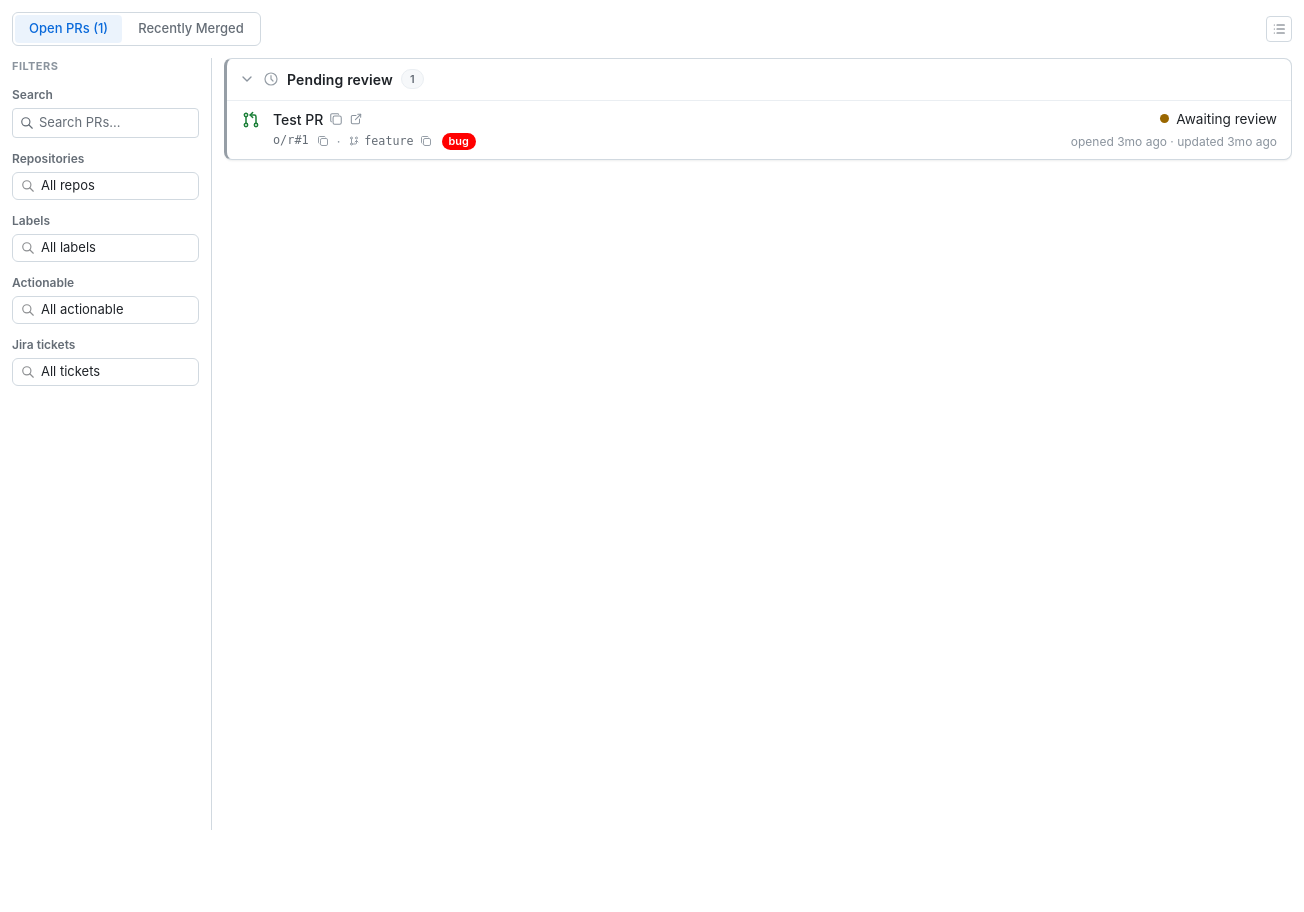
Scenario: PRsView sidebar filters › Recently Merged has no filter controls, so Open filters never carry over
Expected: the text "Filters" is shown, [12,58,58,74]
Expected: the text "All repos" is shown, [41,177,95,193]
Step 1. Click the button "Recently Merged" → coordinates (191, 29), box [124,15,258,42]
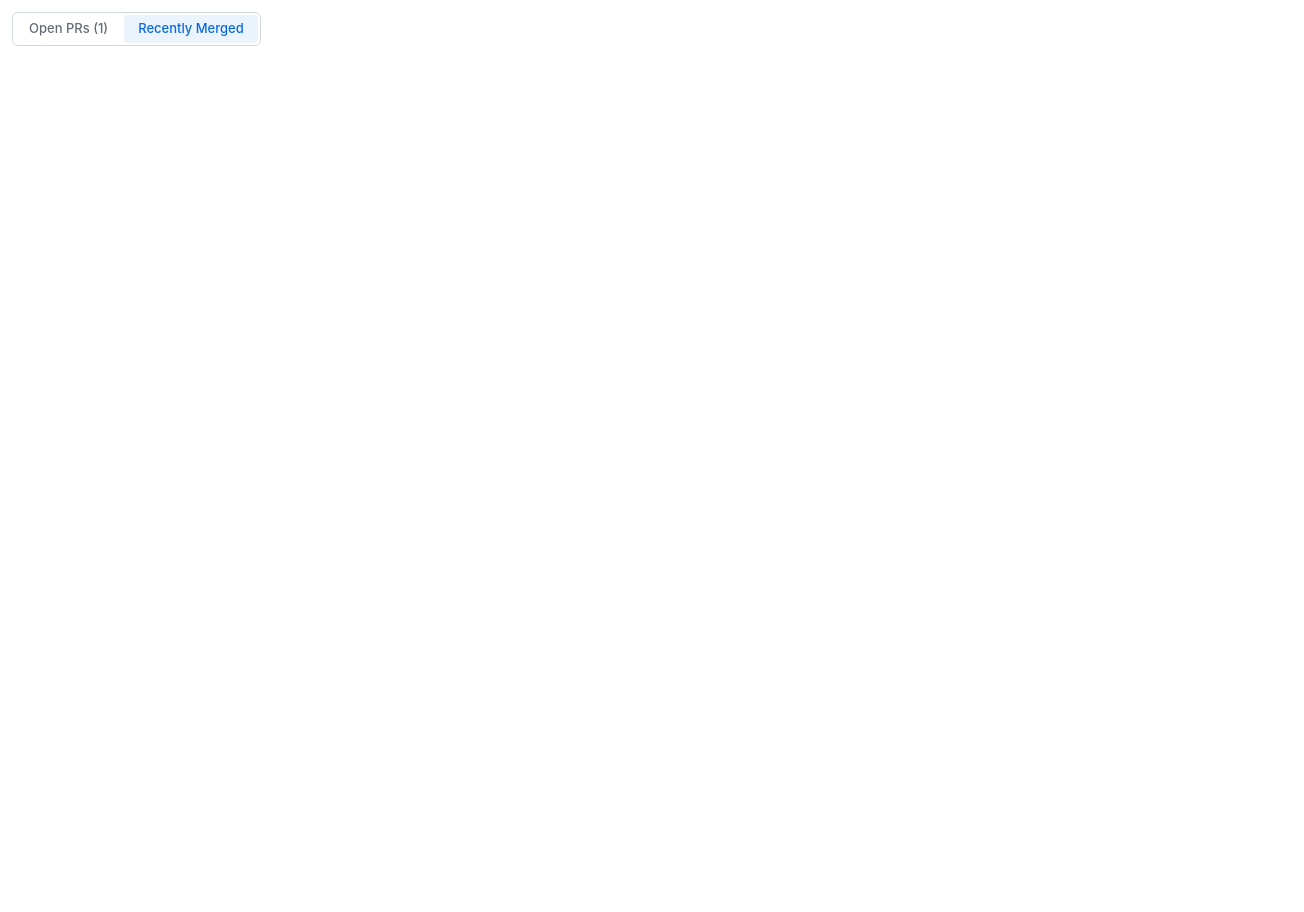
Expected: the text "Filters" is gone
Expected: the dropdown "All repos" is gone
Expected: the dropdown "All actionable" is gone
